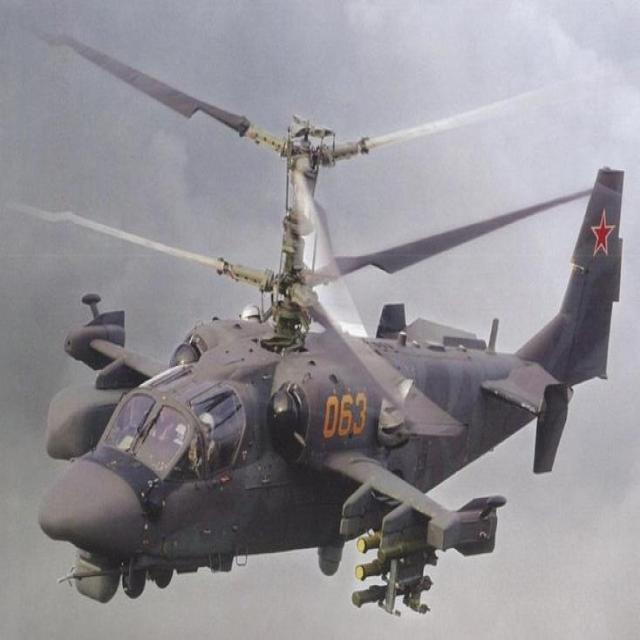MIL_HELO: (18, 0, 639, 620)
